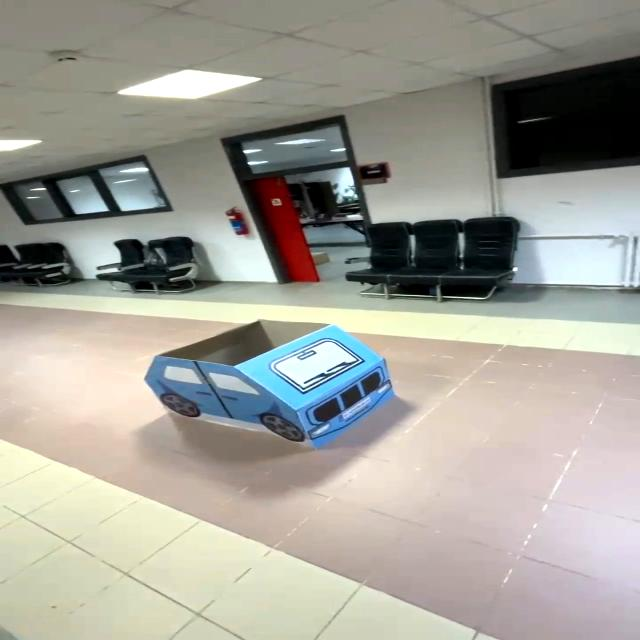blue_car: (130, 302, 410, 460)
